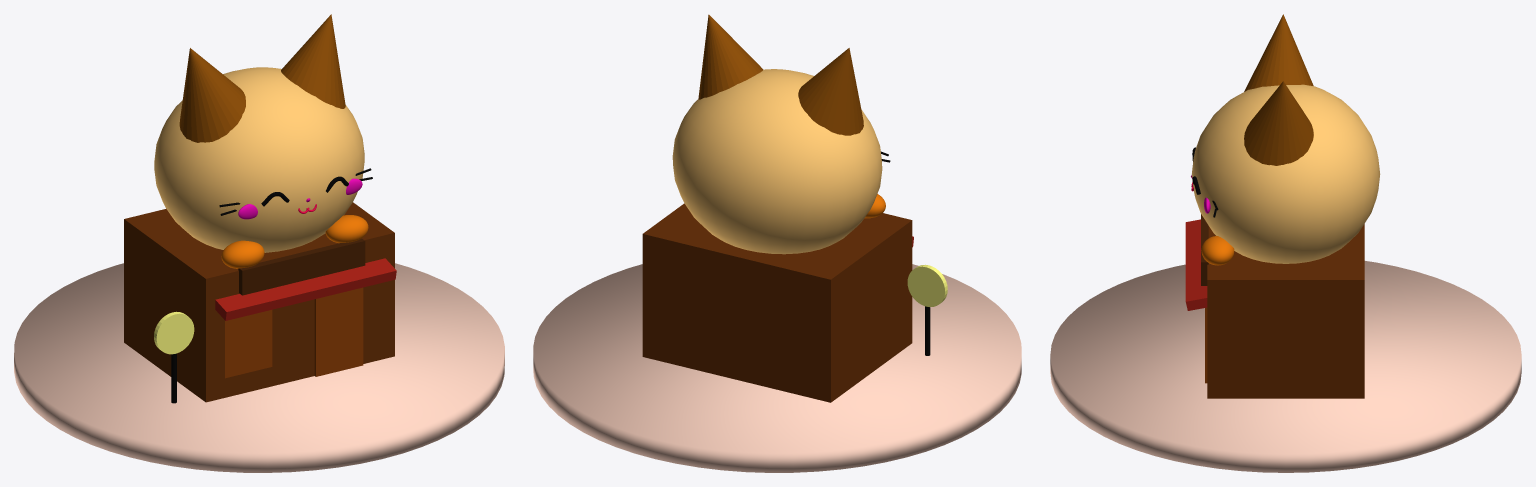
File: _catcafe.glb
3 renders of one model, left to right at view 1: azimuth 30°, elevation 25°; view 2: azimuth 150°, elevation 25°; view 3: azimuth 270°, elevation 25°, orthographic. The views are drawn at different scales.
Parts seen in each view (by area): view 1: Base_Ground, Cat_Head_Toon, Building_Main, Cat_Ear_L, Awning, Door_Portfolio, Sign_Board, Cat_Ear_R, Frame_Selfie, PBR_Sign_Metal, Cat_Paw_L, Cat_Paw_R; view 2: Base_Ground, Building_Main, Cat_Head_Toon, Cat_Ear_L, Cat_Ear_R, PBR_Sign_Metal; view 3: Base_Ground, Cat_Head_Toon, Building_Main, Cat_Ear_R, Cat_Ear_L, Awning, Cat_Paw_R.
Part boxes in pixels (x1,y1,x2,y2): Base_Ground: (14, 263, 504, 472); Cat_Head_Toon: (154, 67, 364, 252); Building_Main: (124, 202, 394, 402); Cat_Ear_L: (179, 48, 245, 142); Awning: (215, 258, 396, 320); Door_Portfolio: (314, 287, 363, 376); Sign_Board: (238, 238, 365, 295); Cat_Ear_R: (281, 14, 345, 108); Frame_Selfie: (225, 310, 272, 378); PBR_Sign_Metal: (154, 311, 194, 354); Cat_Paw_L: (221, 240, 264, 268); Cat_Paw_R: (325, 215, 368, 243); Base_Ground: (533, 264, 1021, 472); Building_Main: (642, 203, 912, 402); Cat_Head_Toon: (672, 69, 882, 254); Cat_Ear_L: (798, 48, 863, 135); Cat_Ear_R: (698, 14, 763, 99); PBR_Sign_Metal: (907, 264, 947, 306); Base_Ground: (1050, 261, 1521, 472); Cat_Head_Toon: (1191, 84, 1380, 263); Building_Main: (1207, 224, 1364, 398); Cat_Ear_R: (1244, 81, 1313, 165); Cat_Ear_L: (1244, 14, 1313, 91); Awning: (1185, 219, 1207, 310); Cat_Paw_R: (1201, 236, 1234, 265).
Size of the model in its own units: 9 by 6.88 by 9.
